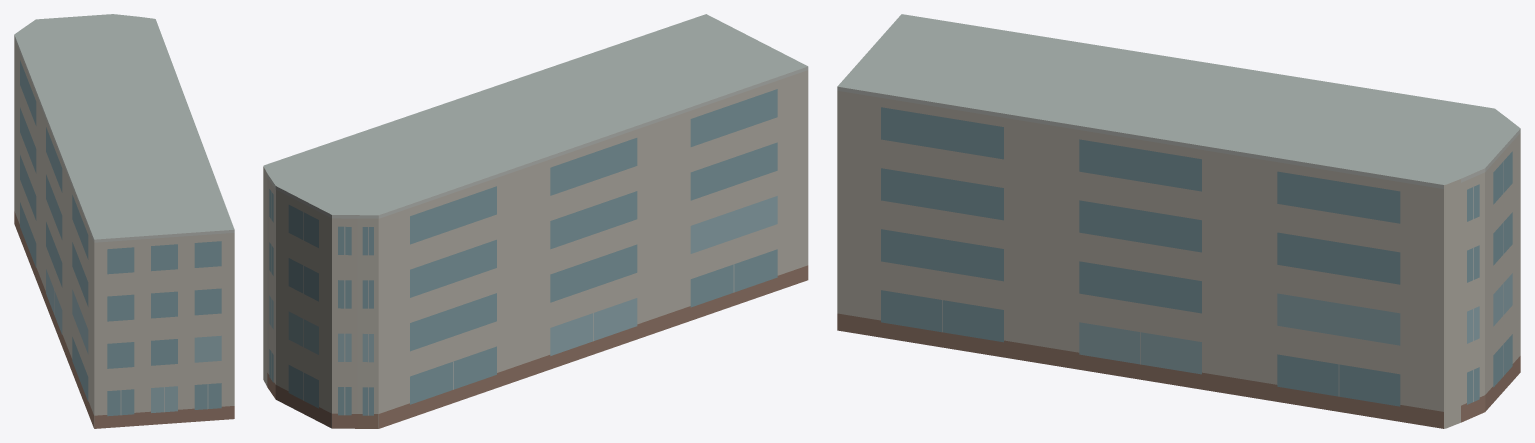
Rendered from survey-upis-32886555.glb.
The picture shows the model from 3 angles, left to right: view 1: azimuth 30°, elevation 25°; view 2: azimuth 150°, elevation 25°; view 3: azimuth 270°, elevation 25°; orthographic projection. The views are drawn at different scales.
Parts seen in each view (by area): view 1: survey-upis-32886555.tmp; view 2: survey-upis-32886555.tmp; view 3: survey-upis-32886555.tmp.
Boxes of the visible parts, x1=… form: survey-upis-32886555.tmp: x1=14, y1=14, x2=234, y2=428; survey-upis-32886555.tmp: x1=263, y1=14, x2=808, y2=428; survey-upis-32886555.tmp: x1=837, y1=14, x2=1520, y2=428.
Size of the model in its own units: 22.12 by 14.7 by 37.35.
